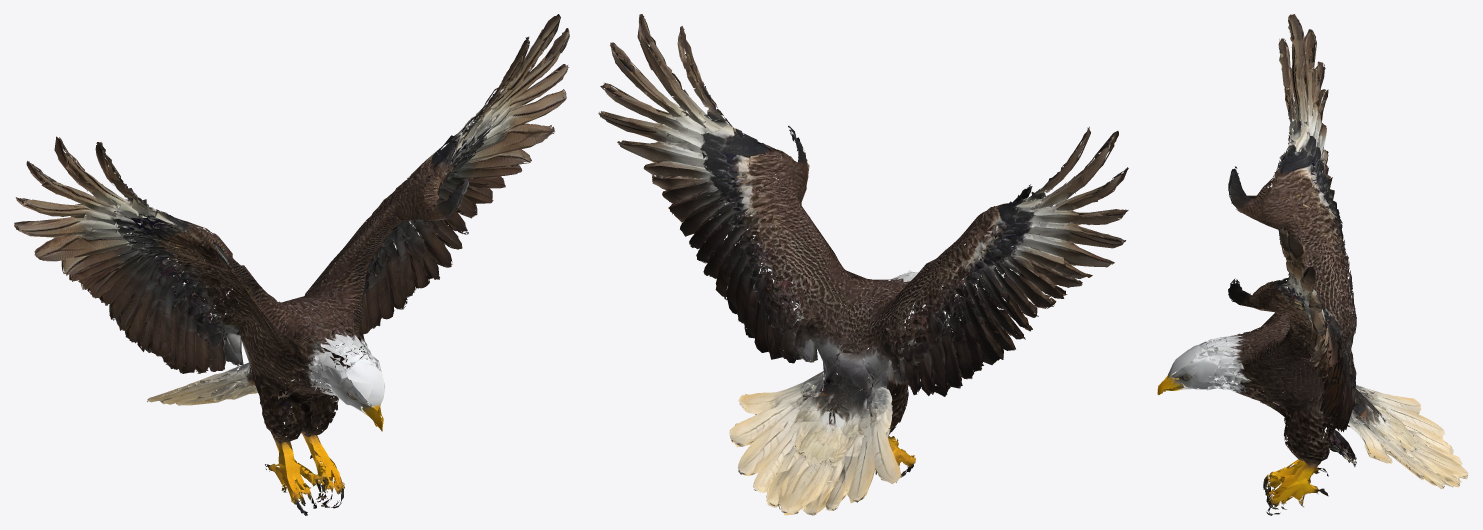
Rendered from raptor.glb.
3 renders of one model, left to right at view 1: azimuth 30°, elevation 25°; view 2: azimuth 150°, elevation 25°; view 3: azimuth 270°, elevation 25°, orthographic. The views are drawn at different scales.
Parts seen in each view (by area): view 1: MeshyFit; view 2: MeshyFit; view 3: MeshyFit.
Boxes of the visible parts, left/top/right/bottom form: MeshyFit: left=14, top=14, right=569, bottom=515; MeshyFit: left=598, top=14, right=1128, bottom=515; MeshyFit: left=1157, top=14, right=1468, bottom=515.
Size of the model in its own units: 1.35 by 1 by 0.7293.
1 material, 1 textured.
